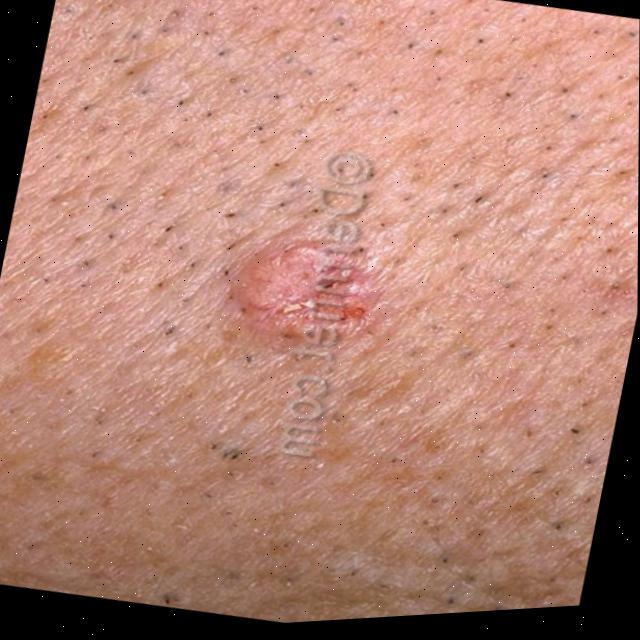Eczema: (229, 210, 374, 358)
